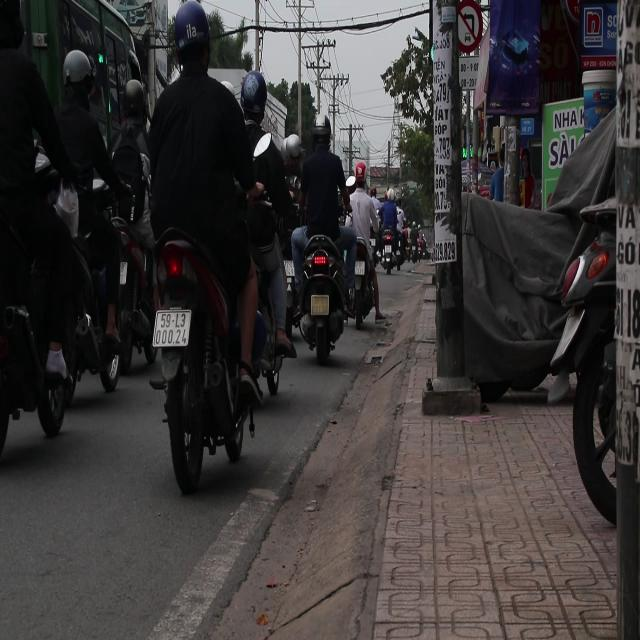motorbike: (149, 207, 252, 489), (63, 169, 158, 393), (290, 230, 350, 368), (378, 226, 396, 273)
